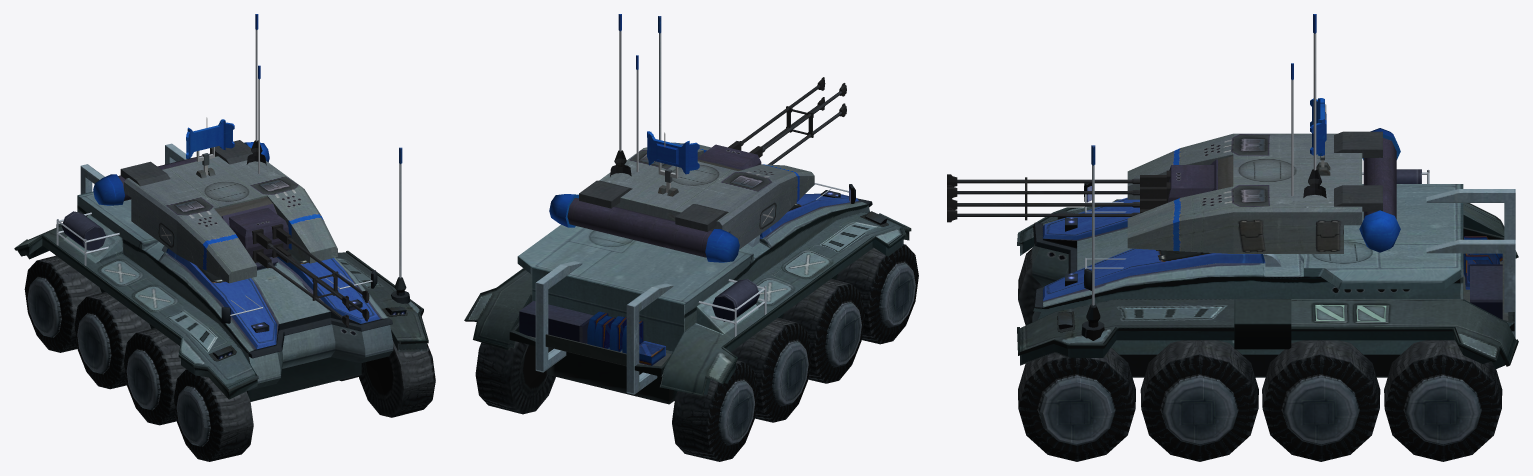
Rendered from Enemy_Tank_01.FBX.
3 renders of one model, left to right at view 1: azimuth 30°, elevation 25°; view 2: azimuth 150°, elevation 25°; view 3: azimuth 270°, elevation 25°, orthographic. The views are drawn at different scales.
Parts seen in each view (by area): view 1: Body, Wheel, Gun_Body, Gun; view 2: Body, Wheel, Gun_Body, Gun; view 3: Body, Wheel, Gun_Body, Gun.
Part boxes in pixels (x1,y1,x2,y2): Body: (14, 143, 428, 401); Wheel: (24, 255, 435, 461); Gun_Body: (93, 14, 337, 283); Gun: (221, 203, 369, 327); Body: (464, 16, 911, 404); Wheel: (475, 244, 918, 461); Gun_Body: (549, 14, 814, 262); Gun: (697, 77, 846, 169); Body: (1017, 145, 1518, 377); Wheel: (1018, 248, 1502, 461); Gun_Body: (1127, 14, 1400, 253); Gun: (947, 159, 1217, 222).
Size of the model in its own units: 11.98 by 16.01 by 20.09.
